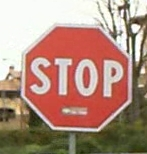stop: (21, 22, 131, 131)
